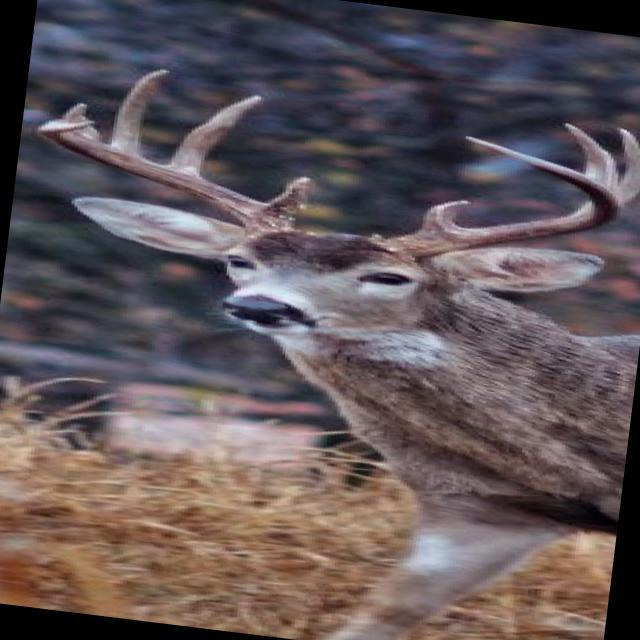L-F: (376, 135, 620, 261)
L-G1: (411, 198, 476, 234)
R-F: (34, 118, 299, 235)
R-G1: (264, 174, 318, 218)
R-G2: (164, 93, 266, 178)
R-G3: (108, 68, 174, 160)
